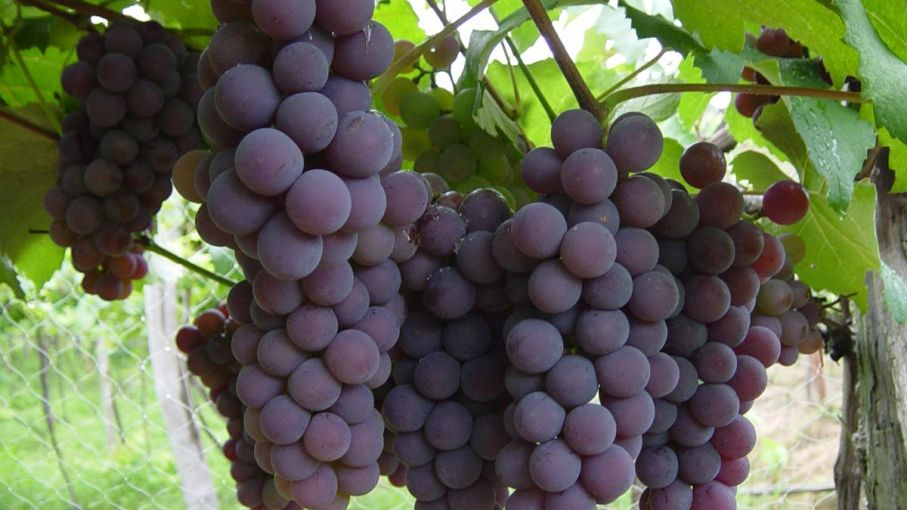Black grapes: (190, 3, 396, 510), (501, 104, 671, 510), (675, 148, 812, 510), (386, 154, 524, 510), (60, 18, 193, 299)
